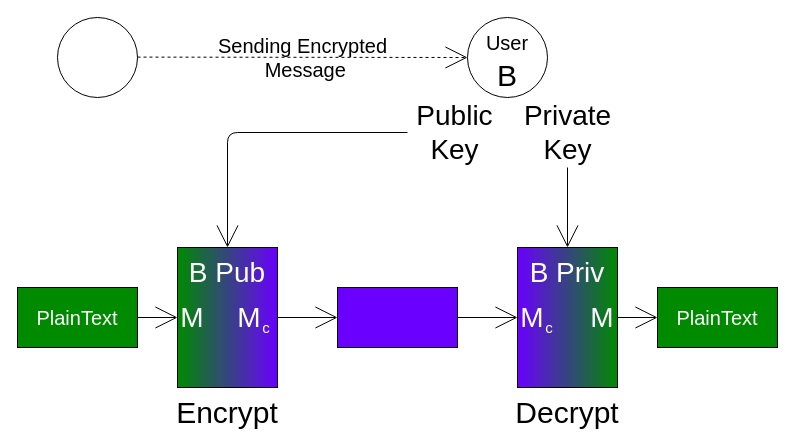
Some shapes in this 795 by 448 pixel diagram are drawn without their labels. Here are the shapes that lost their labels. From the top down, the centre of each, then its label:
At (97,57): "User A".
At (397,317): "CipherText".
